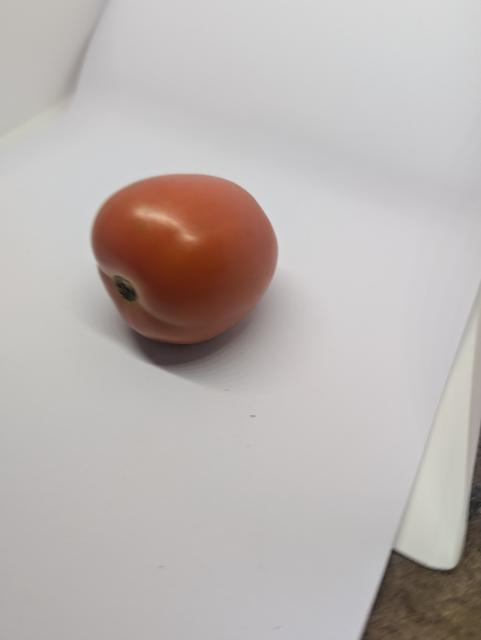red: (85, 167, 283, 362)
